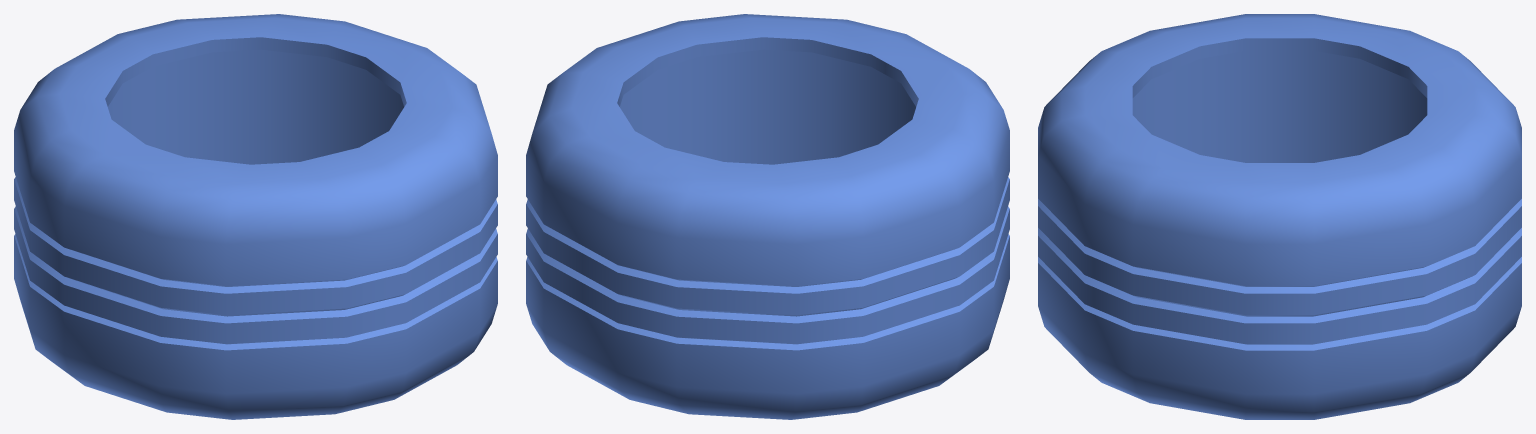
Rendered from SM_Tire.fbx.
3 views of the same model, side by side, from view 1: azimuth 30°, elevation 25°; view 2: azimuth 150°, elevation 25°; view 3: azimuth 270°, elevation 25° (orthographic).
Visible parts, largest first — view 1: neumatico; view 2: neumatico; view 3: neumatico.
Boxes of the visible parts, x1,y1,x2,y2 form: neumatico: (14,14,497,419); neumatico: (526,14,1009,419); neumatico: (1038,14,1521,419).
Bounding box in the file's own units: 228 × 121 × 228.
